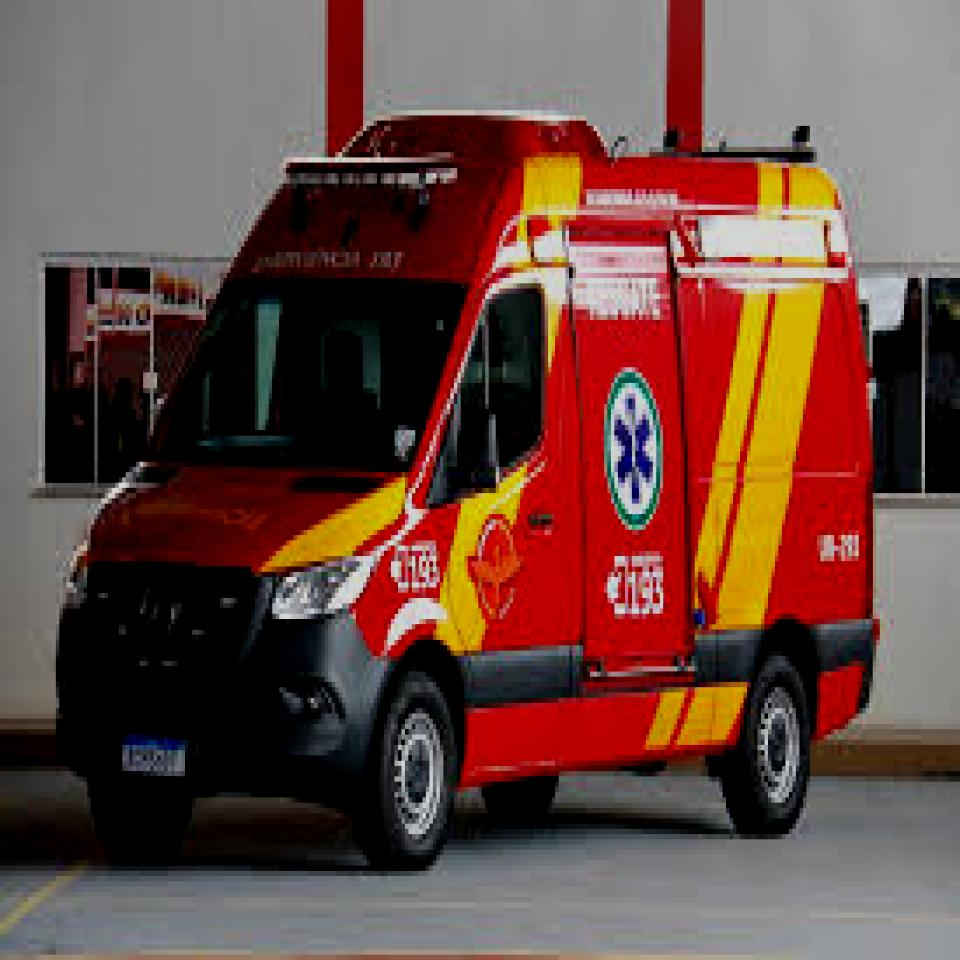bombeiro: (54, 113, 886, 876)
